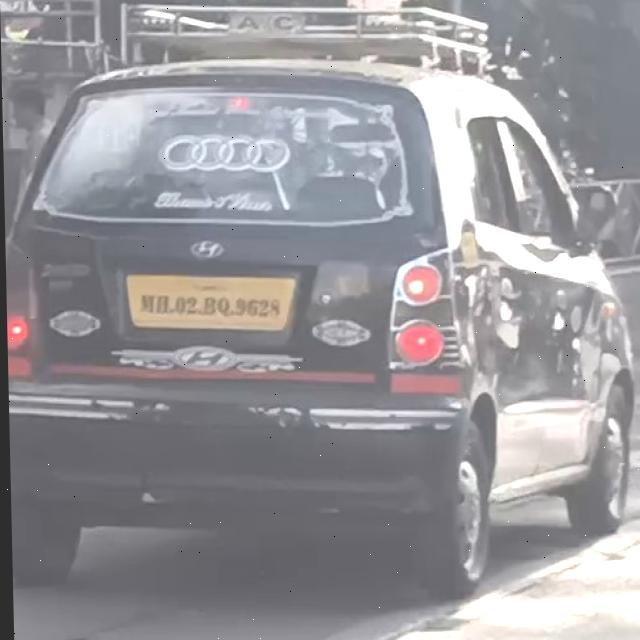plate: (125, 278, 296, 342)
